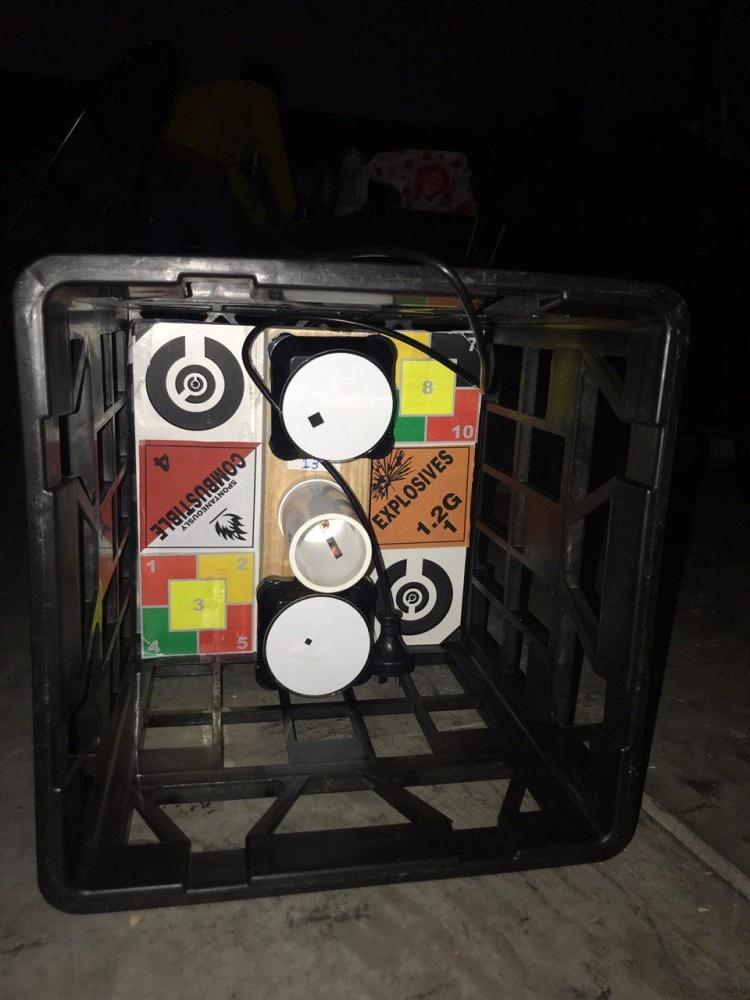explosive: (366, 445, 471, 548)
spontaneously-combustible: (136, 440, 265, 557)
